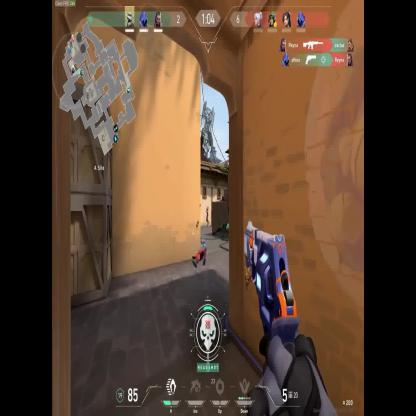enemy: (206, 206, 210, 227)
enemy_head: (207, 206, 208, 210)
